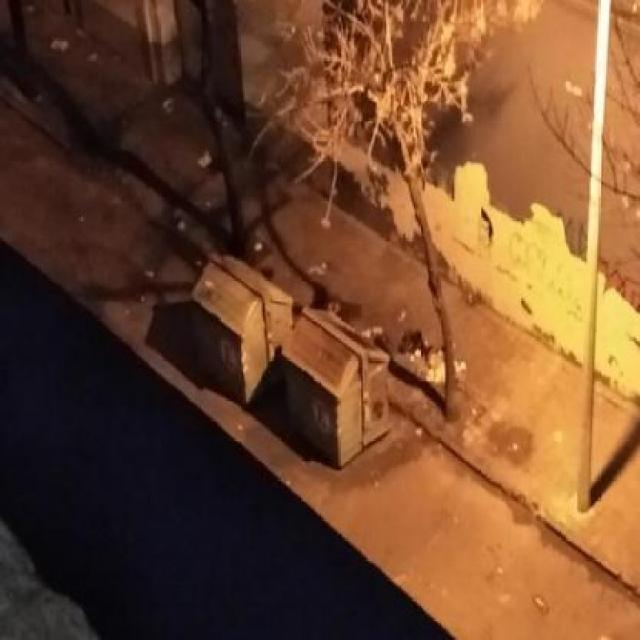garbage: (169, 250, 400, 479), (357, 314, 492, 412)
